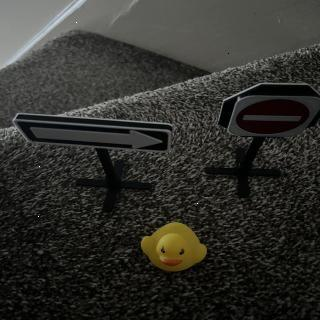duck_regular: (142, 224, 209, 274)
sign_noentry: (219, 84, 320, 140)
sign_oneway_right: (13, 114, 175, 154)
